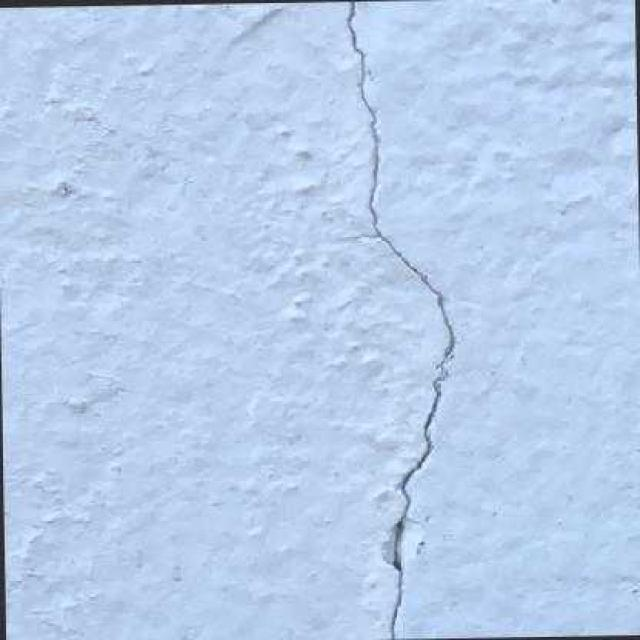D00: (332, 0, 458, 639)
